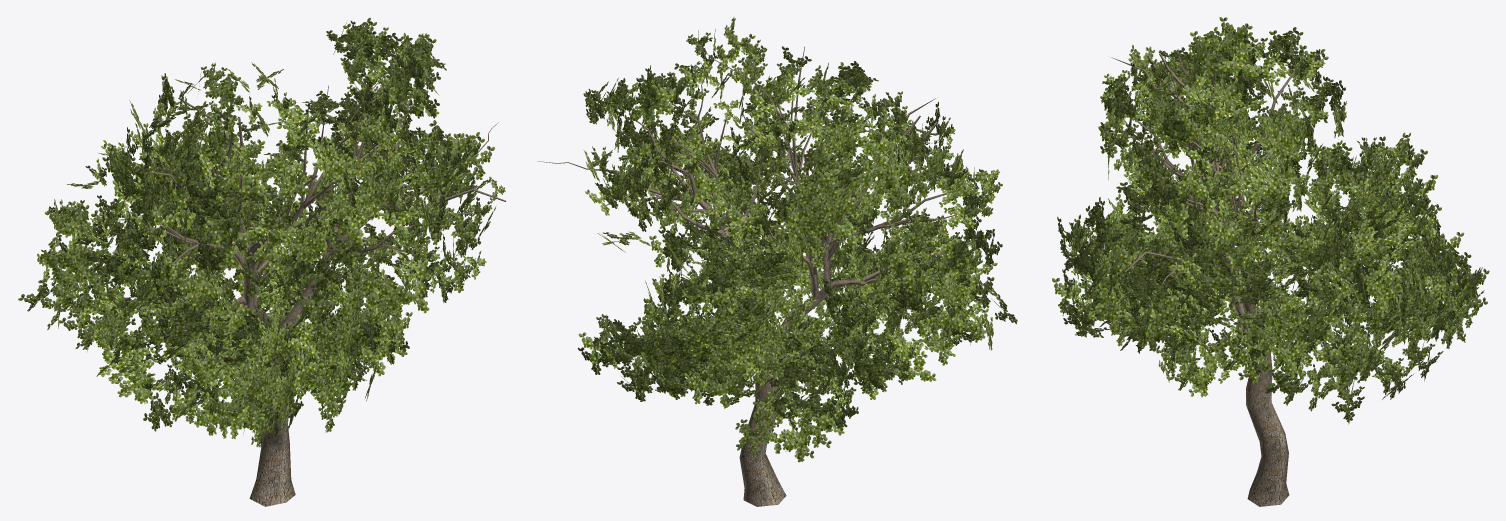
The model's file is Cercocarpus_Montanus_Spring_Adult.glb.
3 views of the same model, side by side, from view 1: azimuth 30°, elevation 25°; view 2: azimuth 150°, elevation 25°; view 3: azimuth 270°, elevation 25° (orthographic). The views are drawn at different scales.
Parts seen in each view (by area): view 1: Cercocarpus_Montanus_Spring_Adult__LOD3; view 2: Cercocarpus_Montanus_Spring_Adult__LOD3; view 3: Cercocarpus_Montanus_Spring_Adult__LOD3.
Boxes of the visible parts, bbox=[...] form: Cercocarpus_Montanus_Spring_Adult__LOD3: bbox=[18, 17, 505, 506]; Cercocarpus_Montanus_Spring_Adult__LOD3: bbox=[537, 17, 1017, 506]; Cercocarpus_Montanus_Spring_Adult__LOD3: bbox=[1052, 17, 1489, 506].
Size of the model in its own units: 3.84 by 3.66 by 3.29.
Materials: 2 (2 with a texture image).
